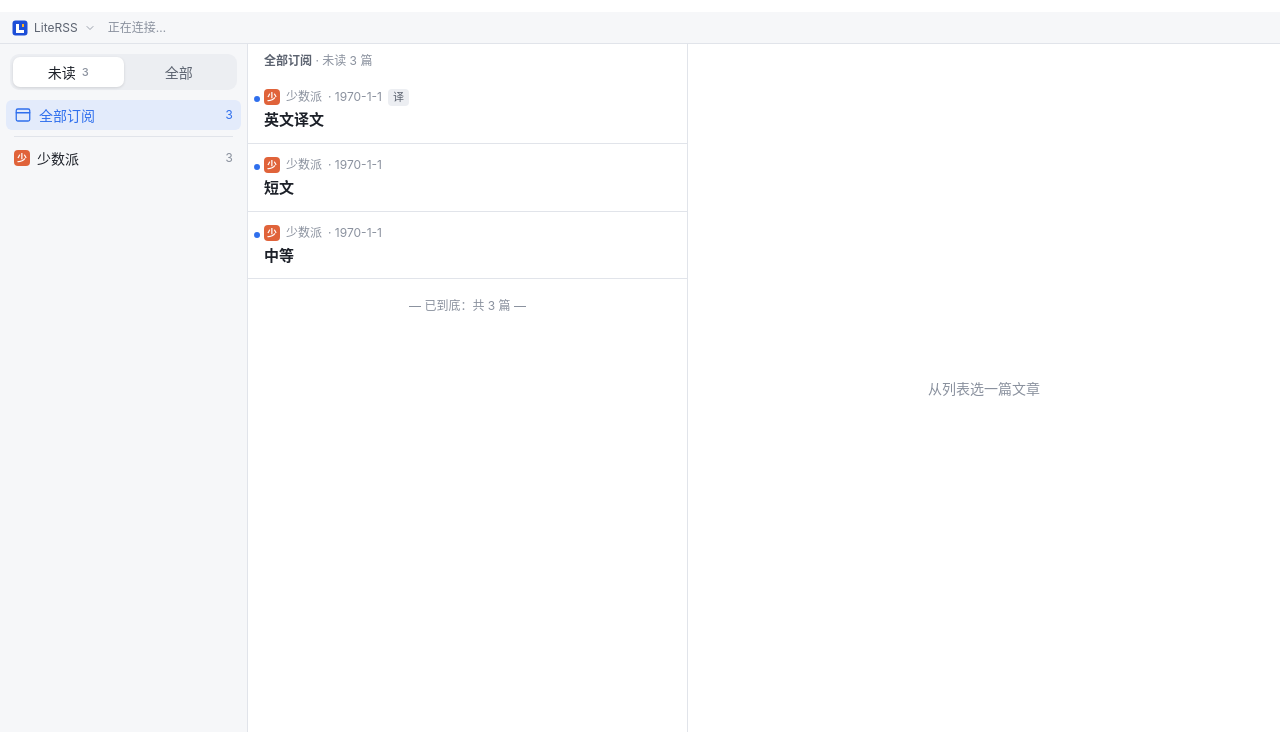
详情 › 摘要后抓到全文：摘要按全文重新生成
The image size is (1280, 732).
Step 1. Click the option "少 少数派 · 1970-1-1 中等" → (304, 232), box [248, 212, 687, 279]
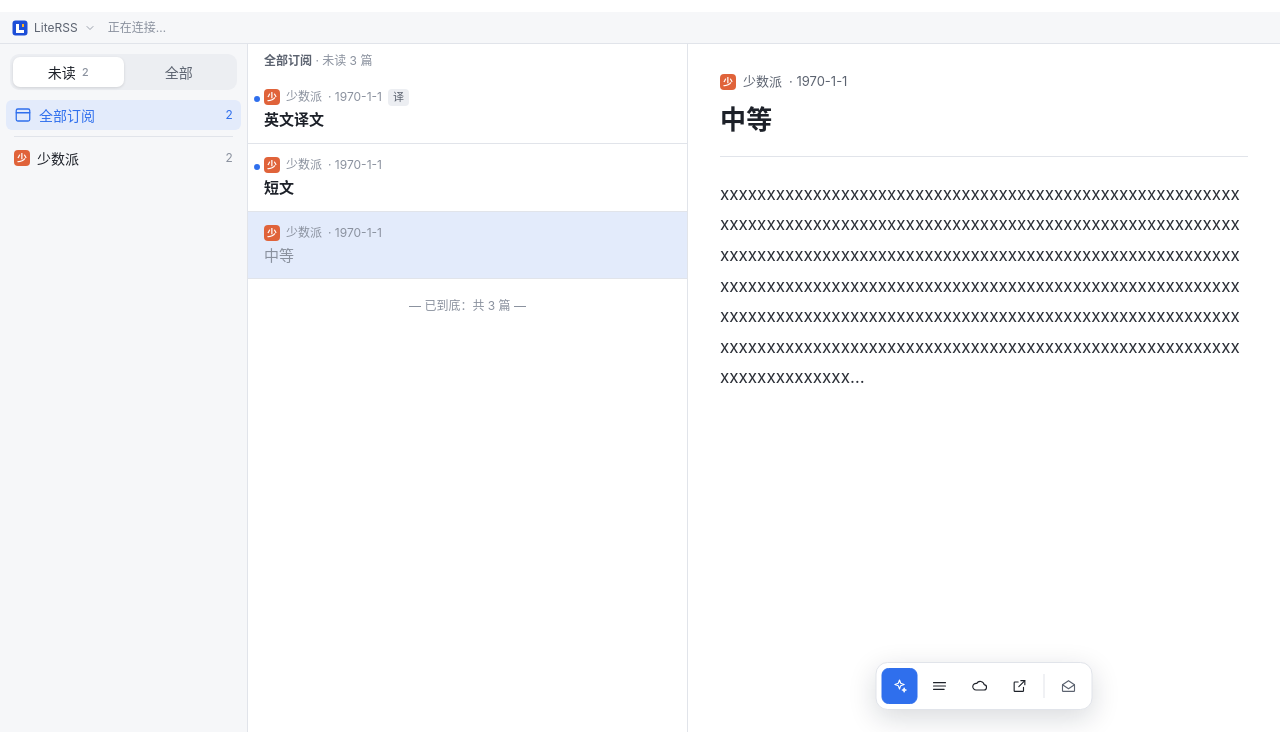
Step 2. Click the button named "生成摘要" → (900, 686), box [882, 668, 918, 704]
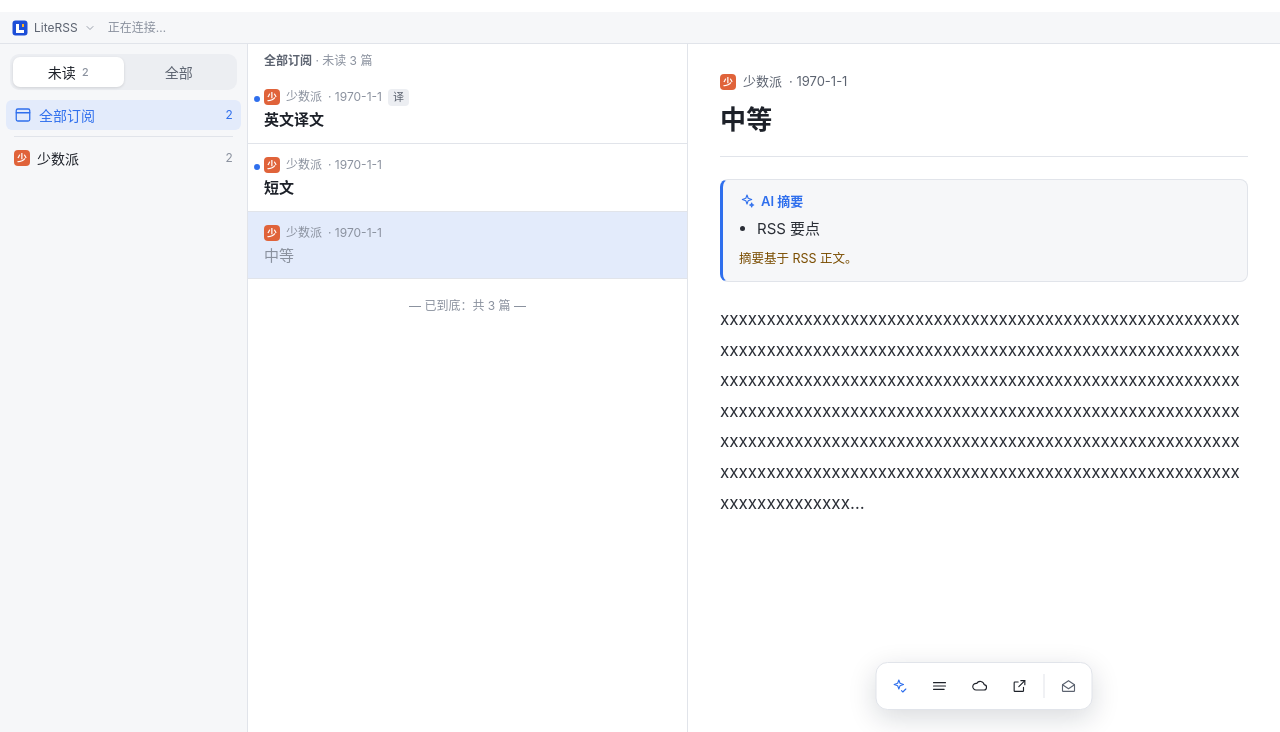
Result: the list item "RSS 要点" is shown at [757, 219, 820, 238]
Result: the text with class "note" reads "摘要基于 RSS 正文。" at [739, 251, 858, 266]
Step 3. Click the button named "抓取全文" → (980, 686), box [962, 668, 998, 704]
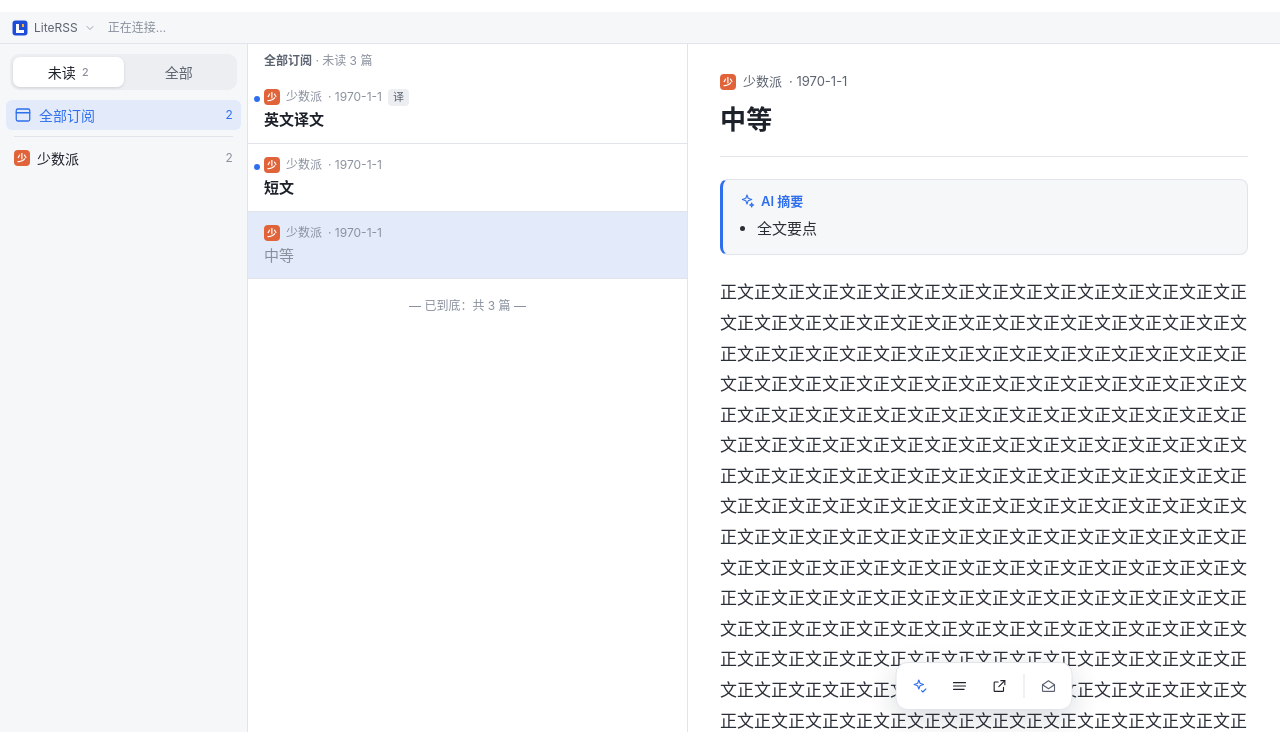
Result: the list item "全文要点" is shown at [757, 219, 817, 238]
